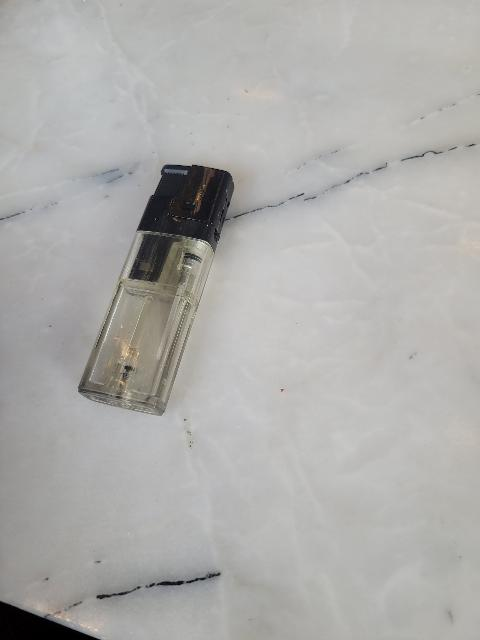Plastik: (75, 162, 242, 415)
